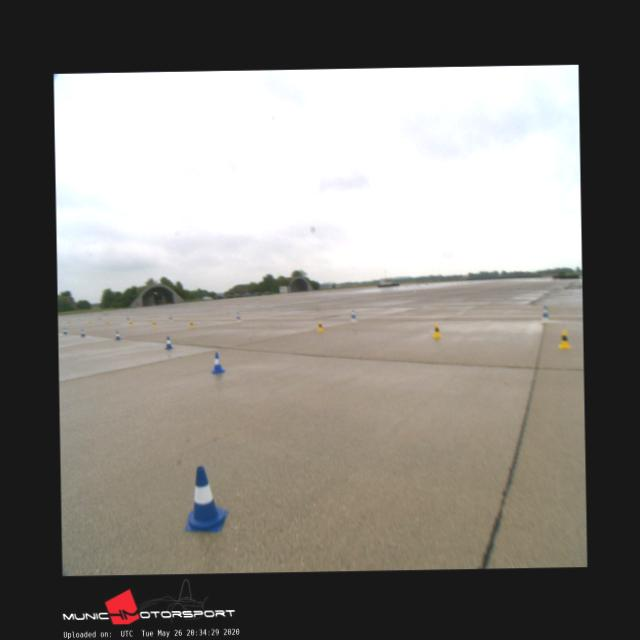blue_cone: (184, 466, 227, 531), (210, 352, 224, 372), (165, 336, 172, 348), (114, 330, 120, 340)
yellow_cone: (558, 329, 570, 348), (432, 323, 441, 337), (316, 320, 323, 331)
